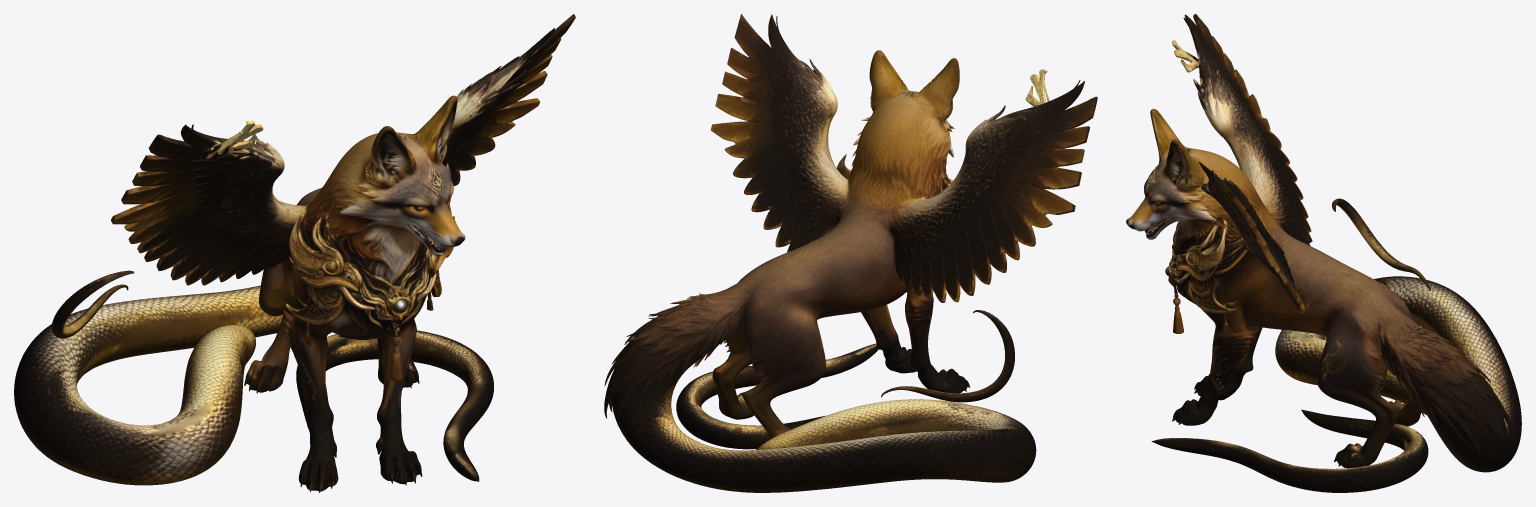
Rendered from hua-she.glb.
3 renders of one model, left to right at view 1: azimuth 30°, elevation 25°; view 2: azimuth 150°, elevation 25°; view 3: azimuth 270°, elevation 25°, orthographic. The views are drawn at different scales.
Parts seen in each view (by area): view 1: node_0; view 2: node_0; view 3: node_0.
Part boxes in pixels (x1=…): node_0: x1=14, y1=14, x2=575, y2=492; node_0: x1=604, y1=14, x2=1097, y2=492; node_0: x1=1126, y1=14, x2=1521, y2=492.
Size of the model in its own units: 0.8344 by 0.7475 by 0.8068.
Materials: 1 (1 with a texture image).
